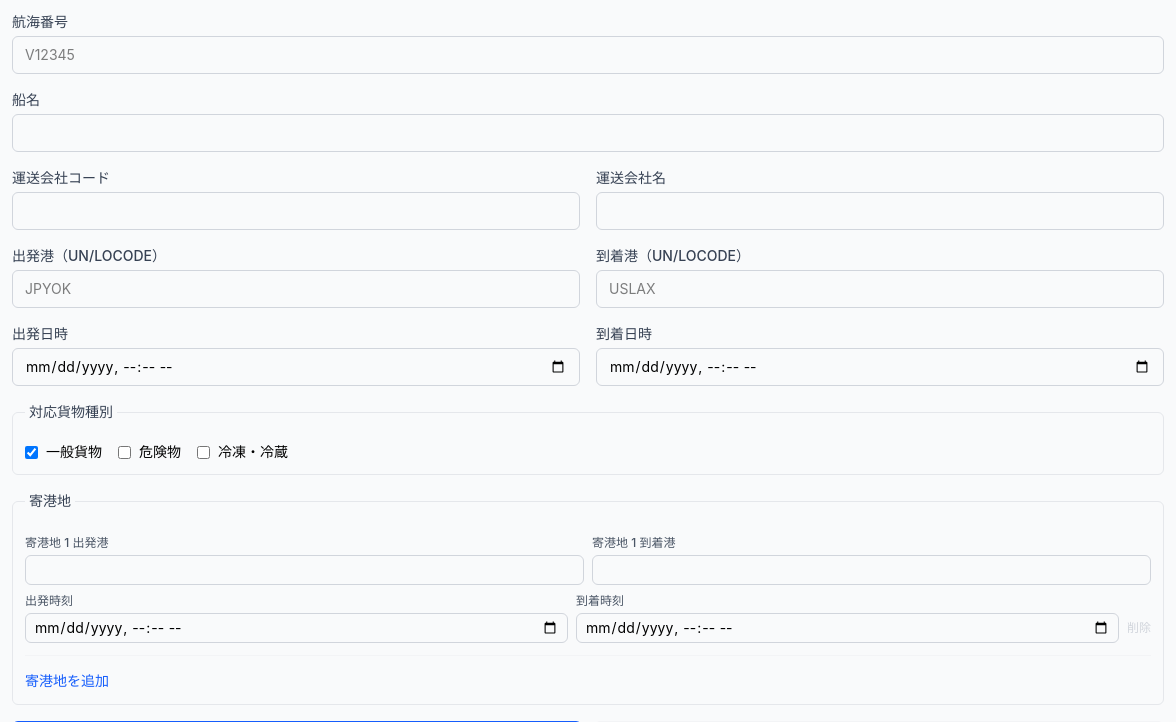
VoyageForm › 「寄港地を追加」ボタンで寄港地行を増やせる
Click the button "寄港地を追加" at (67, 681), box [25,671,109,691]
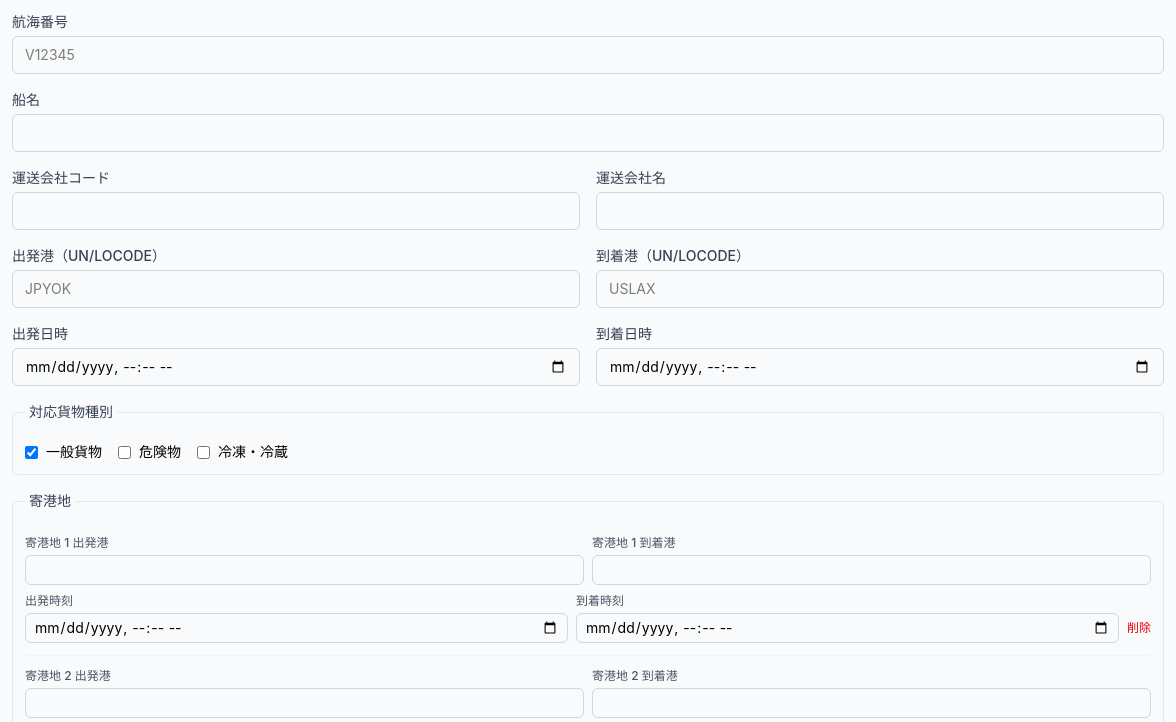
Now the number of fields labelled "寄港地 1 出発港" is 2, box [25,555,584,585]; [25,688,584,718]
